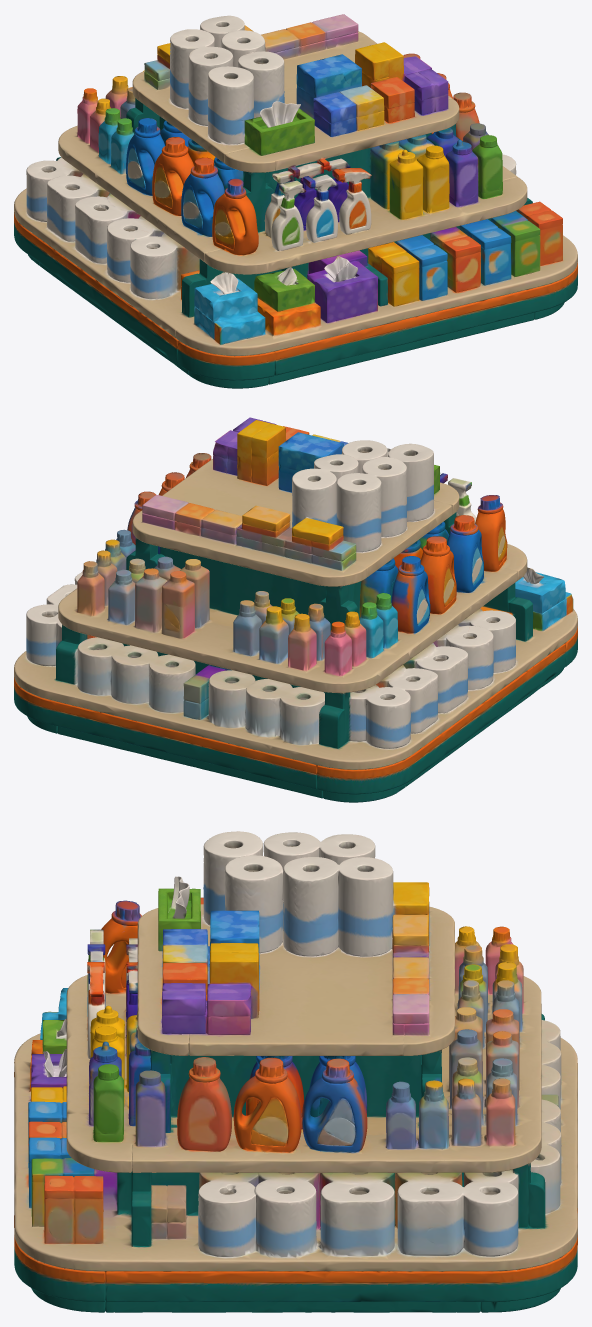
File: GroceryDisplay.fbx
3 renders of one model, top to bottom at view 1: azimuth 30°, elevation 25°; view 2: azimuth 150°, elevation 25°; view 3: azimuth 270°, elevation 25°, orthographic. The views are drawn at different scales.
Visible parts, largest first — view 1: tripo_node_faa6d430-52a2-41e9-bbd7-e6dfc404c9ff; view 2: tripo_node_faa6d430-52a2-41e9-bbd7-e6dfc404c9ff; view 3: tripo_node_faa6d430-52a2-41e9-bbd7-e6dfc404c9ff.
Boxes of the visible parts, box(x1,y1,x2,y2) form: tripo_node_faa6d430-52a2-41e9-bbd7-e6dfc404c9ff: box(14, 14, 577, 388); tripo_node_faa6d430-52a2-41e9-bbd7-e6dfc404c9ff: box(14, 417, 577, 802); tripo_node_faa6d430-52a2-41e9-bbd7-e6dfc404c9ff: box(14, 831, 577, 1312).
Bounding box in the file's own units: 97.95 × 58.49 × 97.91.
Materials: 1 (1 with a texture image).
